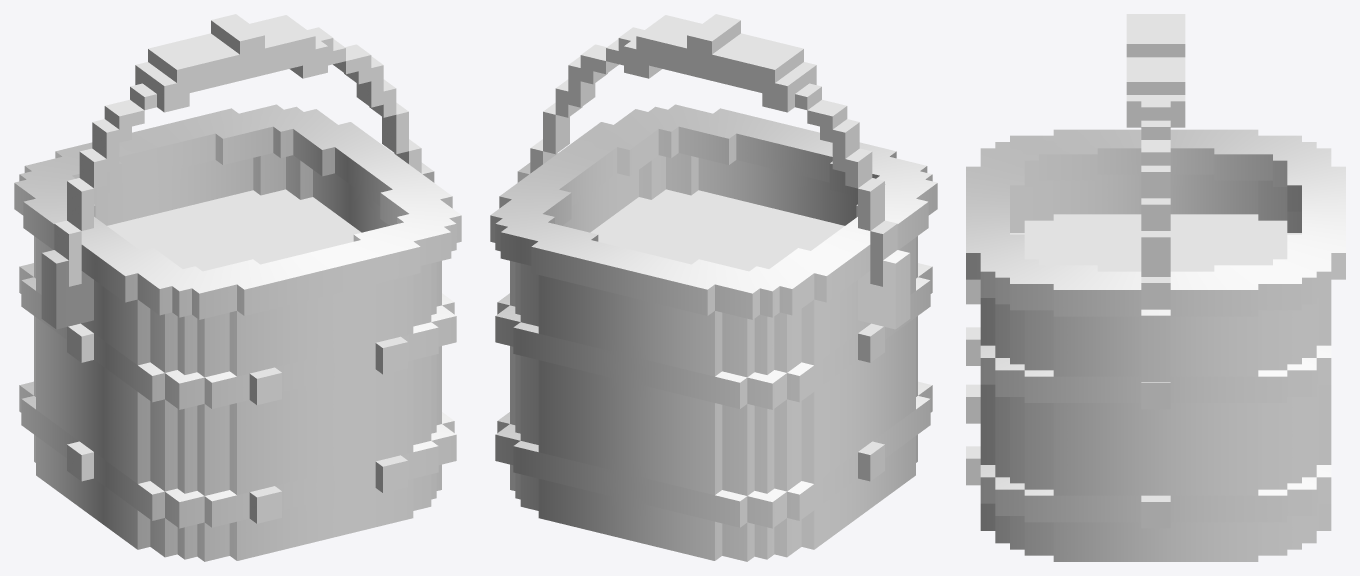
File: water_bucket.obj
The picture shows the model from 3 angles, left to right: view 1: azimuth 30°, elevation 25°; view 2: azimuth 150°, elevation 25°; view 3: azimuth 270°, elevation 25°; orthographic projection.
Parts seen in each view (by area): view 1: water_bucket; view 2: water_bucket; view 3: water_bucket.
Part boxes in pixels (x1,y1,x2,y2): water_bucket: [14, 14, 461, 561]; water_bucket: [490, 14, 937, 561]; water_bucket: [966, 14, 1345, 561].
Size of the model in its own units: 0.9375 by 1.06 by 0.8125.
